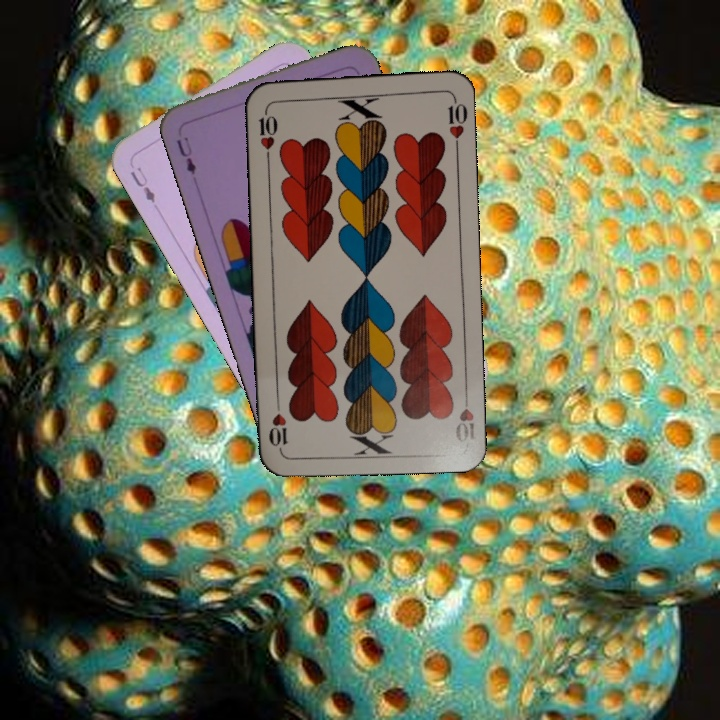EU: (126, 162, 158, 206), (172, 132, 199, 177)
H10: (254, 102, 281, 162), (450, 386, 477, 444)
